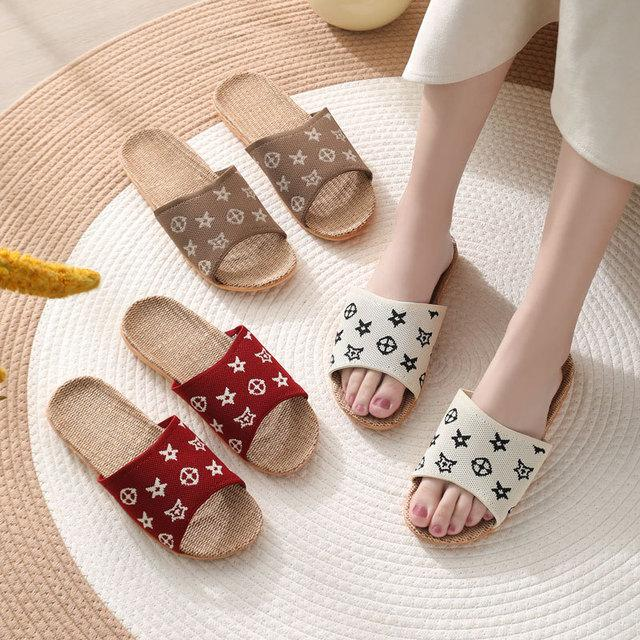Sandals: (267, 194, 624, 594)
